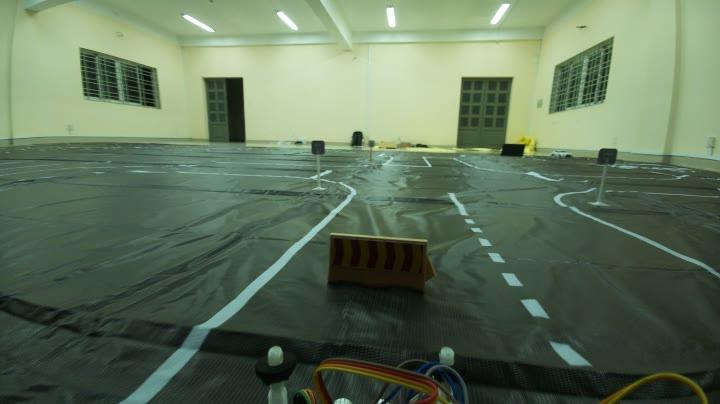roadblock: (326, 229, 444, 308)
